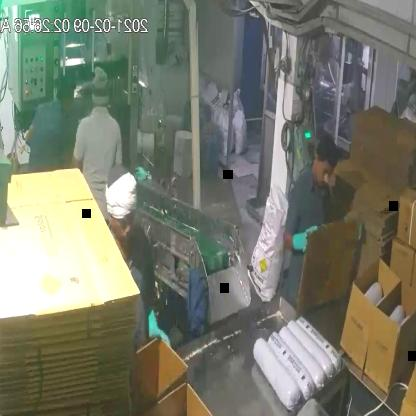glove: (284, 218, 324, 260), (144, 308, 173, 354)
